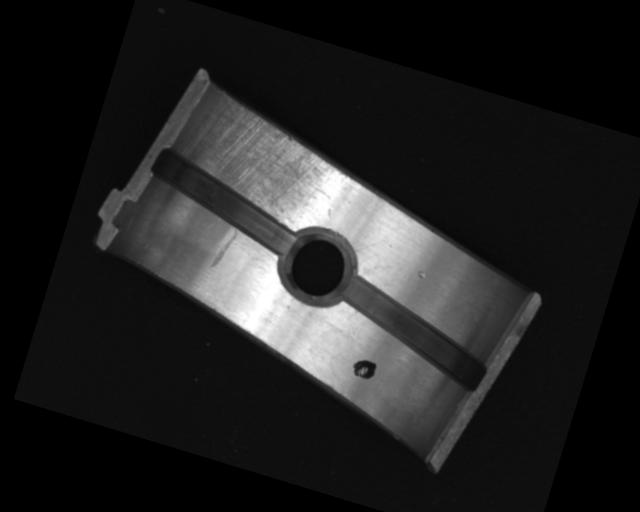blot: (349, 355, 379, 383)
bruise: (415, 268, 427, 281)
gap: (324, 271, 502, 394), (139, 146, 311, 258)
hole: (271, 220, 364, 314)
nick: (209, 222, 240, 273), (352, 230, 385, 260)
scratch: (172, 82, 353, 234)
